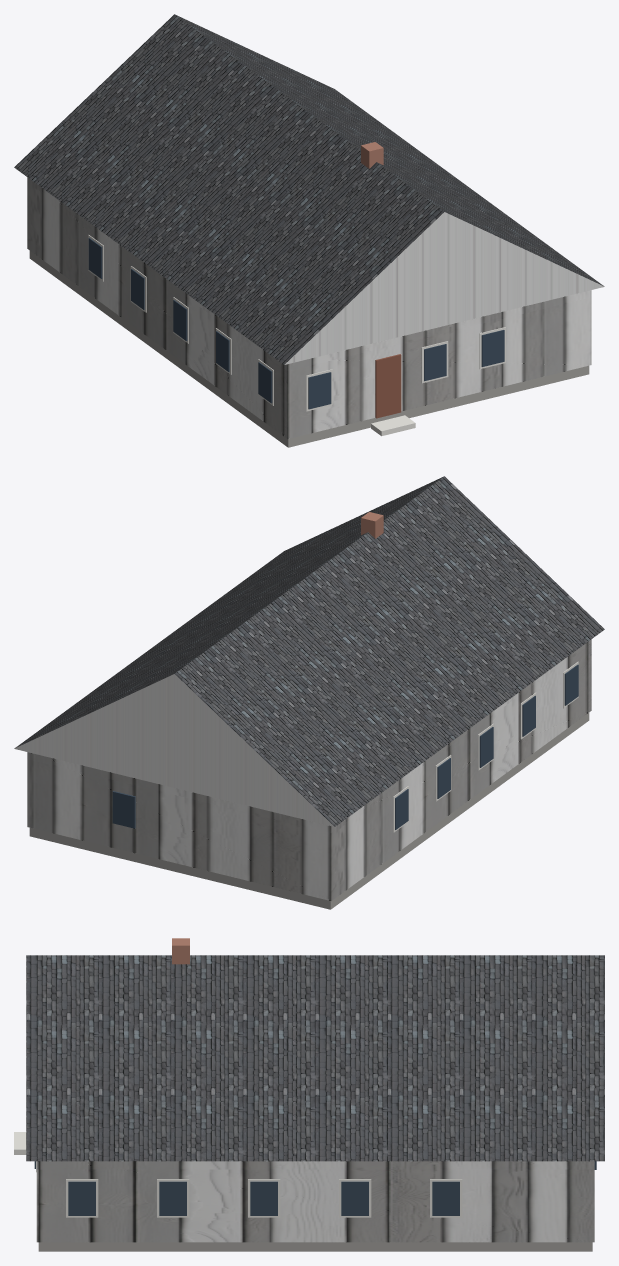
File: asset.glb
3 renders of one model, top to bottom at view 1: azimuth 30°, elevation 25°; view 2: azimuth 150°, elevation 25°; view 3: azimuth 270°, elevation 25°, orthographic. The views are drawn at different scales.
Parts seen in each view (by area): view 1: roof, body, gable_end, foundation, door, win, win.002, win.001, step; view 2: roof, body, gable_end, foundation, win.013; view 3: roof, body, foundation, win.008, win.009, win.010, win.011, win.012, chimney.
Part boxes in pixels (bbox=[...]): roof: bbox=[14, 14, 603, 364]; body: bbox=[27, 177, 591, 438]; gable_end: bbox=[284, 212, 604, 364]; foundation: bbox=[29, 251, 589, 447]; door: bbox=[375, 354, 401, 418]; win: bbox=[308, 372, 331, 409]; win.002: bbox=[481, 330, 504, 366]; win.001: bbox=[424, 344, 446, 381]; step: bbox=[371, 415, 415, 436]; roof: bbox=[15, 476, 604, 826]; body: bbox=[27, 639, 591, 900]; gable_end: bbox=[14, 674, 334, 826]; foundation: bbox=[29, 713, 589, 909]; win.013: bbox=[112, 791, 135, 828]; roof: bbox=[26, 955, 604, 1161]; body: bbox=[36, 1161, 594, 1242]; foundation: bbox=[38, 1242, 592, 1251]; win.008: bbox=[68, 1181, 95, 1215]; win.009: bbox=[159, 1181, 186, 1215]; win.010: bbox=[250, 1181, 277, 1215]; win.011: bbox=[341, 1181, 368, 1215]; win.012: bbox=[432, 1181, 459, 1215]; chimney: bbox=[172, 938, 189, 964].
Size of the model in its own units: 12.22 by 7.85 by 18.19.
7 materials, 2 textured.
